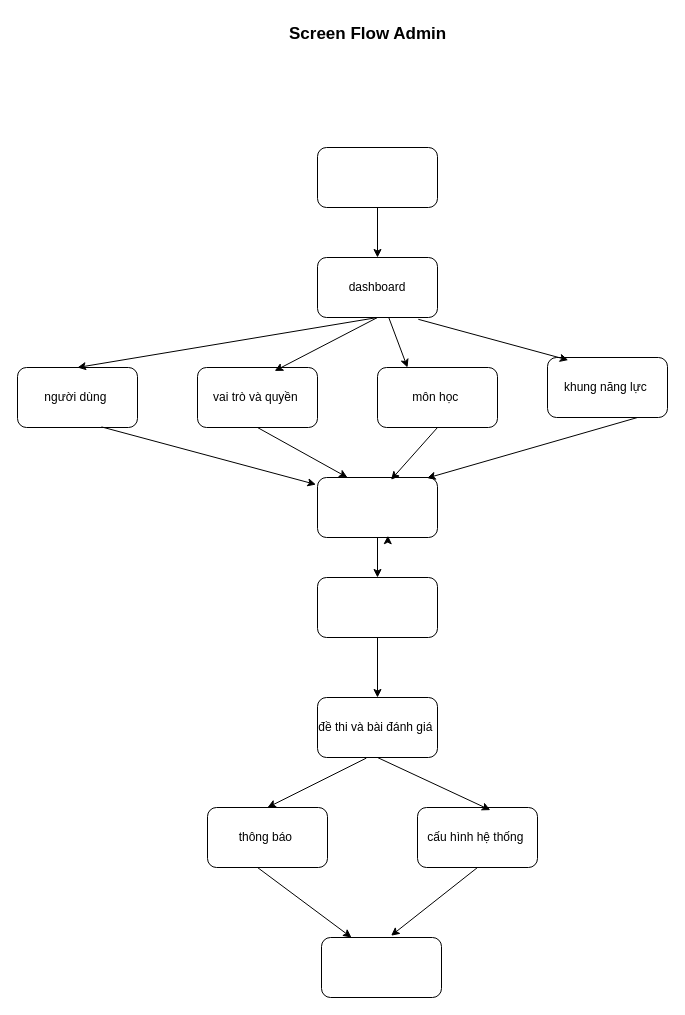
The diagram is 685 pixels wide and 1015 high, and some of its shapes have lost their labels. Each missing label, with the centre of its shape:
"báo cáo và thống kê" belongs at point (381, 967).
"ngân hàng câu hỏi" belongs at point (377, 607).
"tài liệu học tập" belongs at point (377, 507).
"đăng nhập" belongs at point (377, 177).
